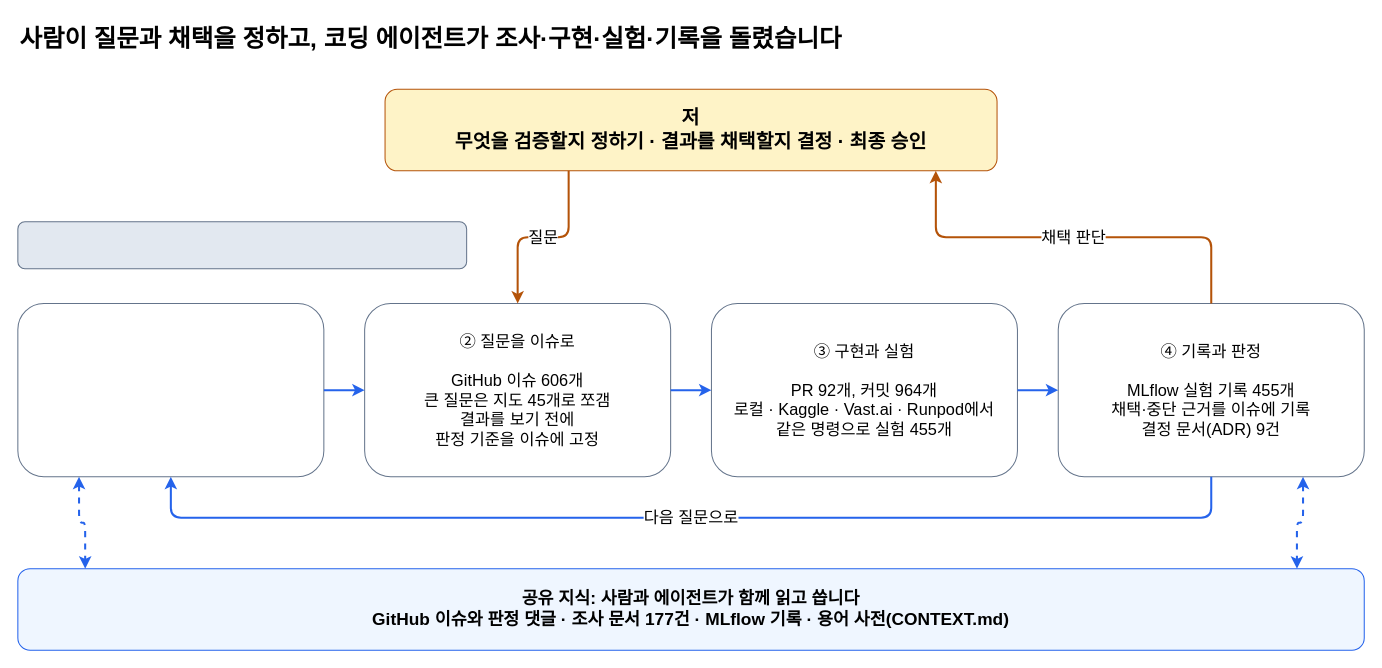
This 1382x668 diagram has some shape labels left out. Here are the shapes that lost their labels. From the top down, the centre of each, then its label:
point (242, 245): Claude Code · Codex가 아래 네 단계를 수행
point (170, 389): ① 조사 이전 대회 상위 후기 12건 기술 글 14건 Discussion 전체 글과 댓글 공개 Code 267개, 37개는 정독
